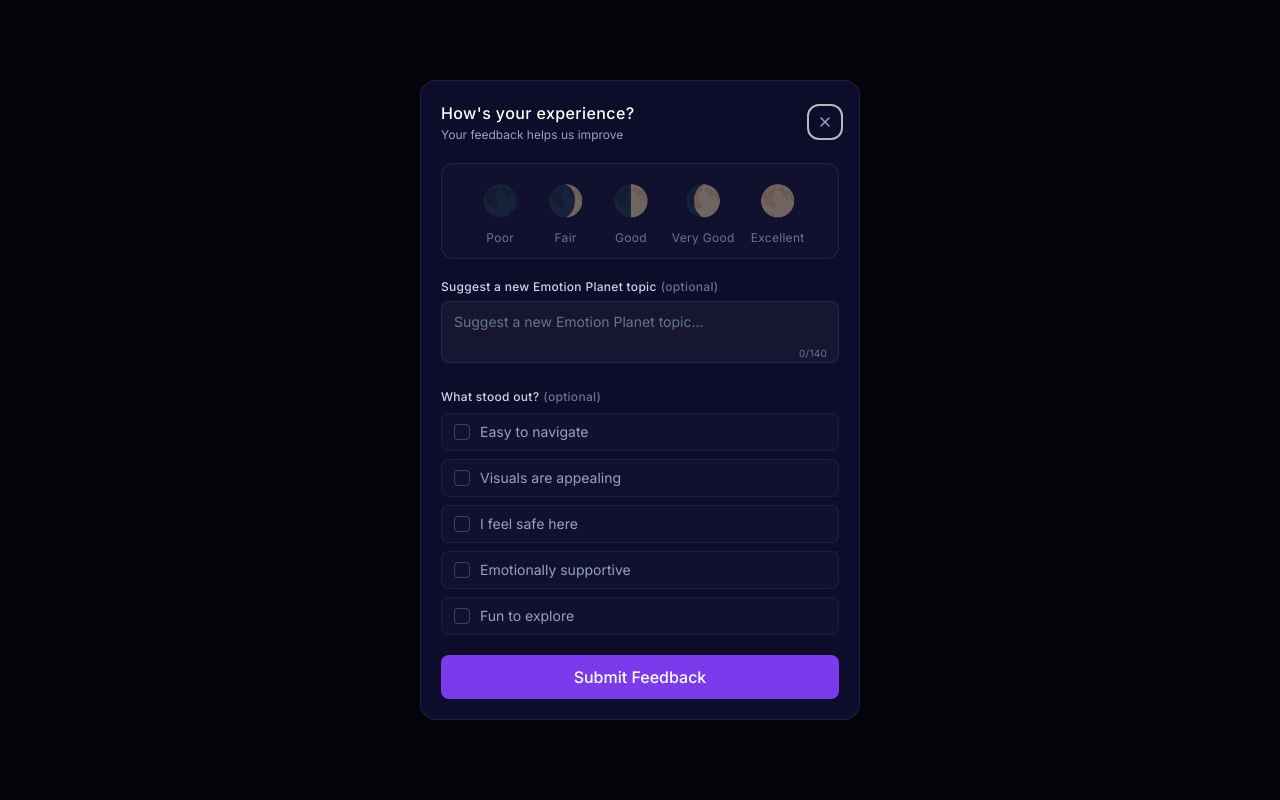
EvaluationModal — Unit Tests (form states) › prevents submission and shows error when no rating is selected
Note: Click the submit button without selecting a rating
Click the button "Submit Feedback".
click(640, 677)  # box left=441, top=655, right=839, bottom=699
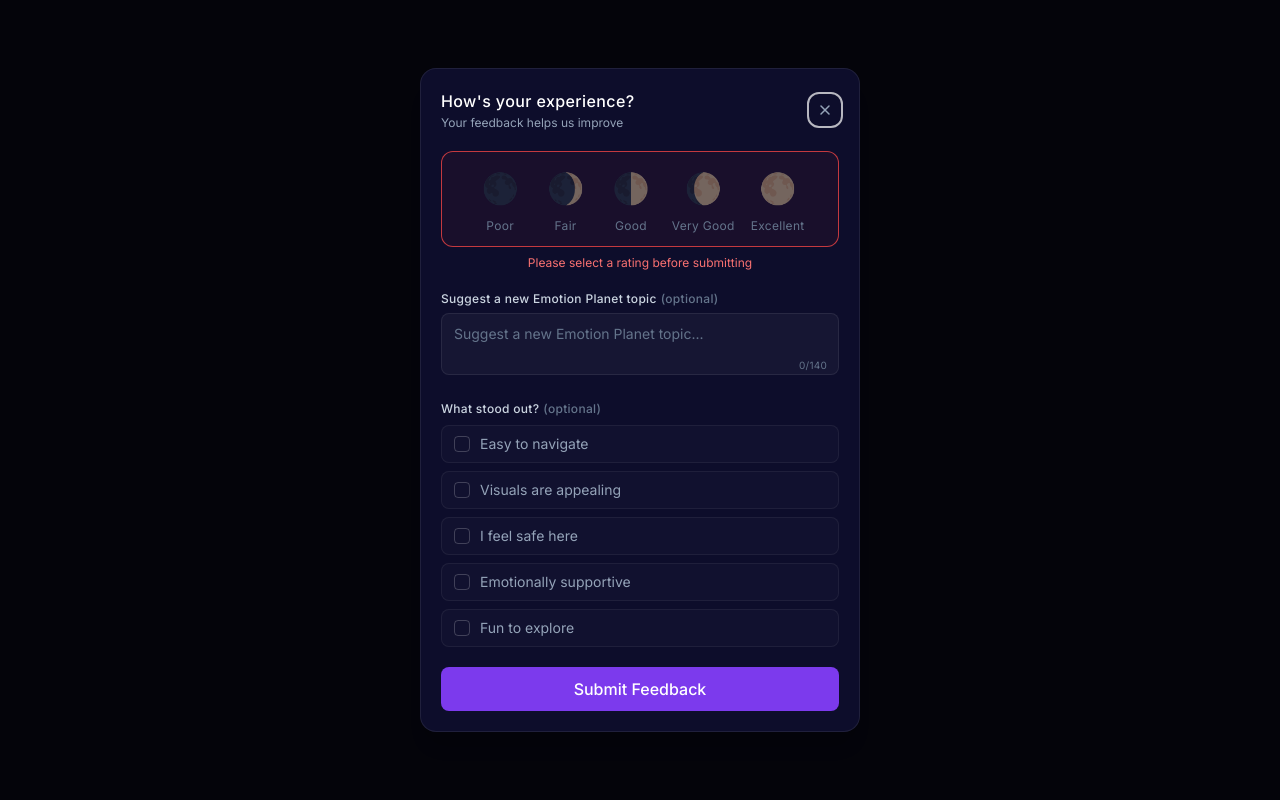
Check: the text "Please select a rating before submitting" is shown, box left=528, top=255, right=752, bottom=270
